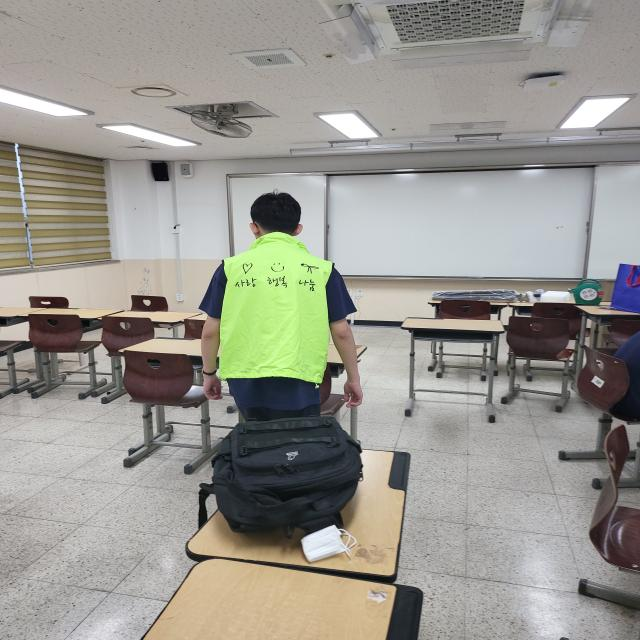weston_spy: (214, 233, 355, 392)
